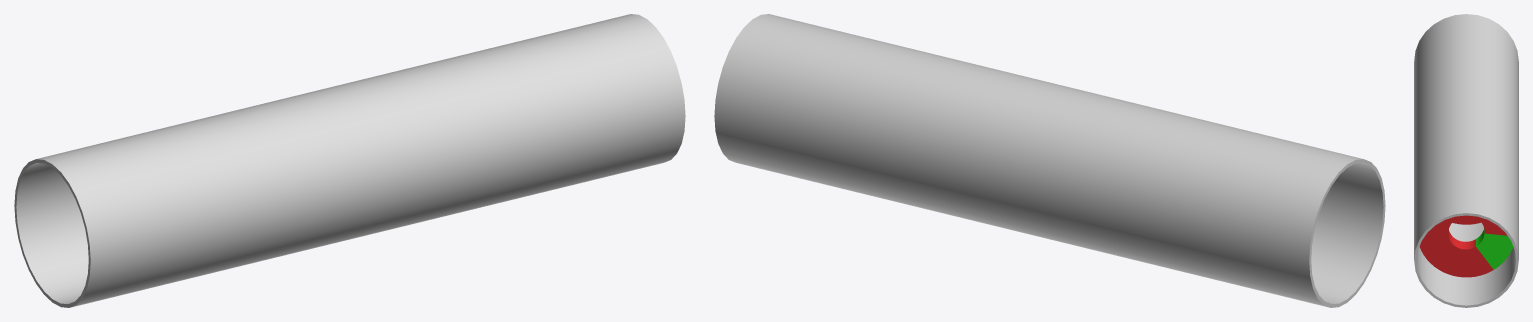
File: RFQ_Together.fbx
The picture shows the model from 3 angles, left to right: view 1: azimuth 30°, elevation 25°; view 2: azimuth 150°, elevation 25°; view 3: azimuth 270°, elevation 25°; orthographic projection. The views are drawn at different scales.
Visible parts, largest first — view 1: RFQ_Main_Pipe.003; view 2: RFQ_Main_Pipe.003; view 3: RFQ_Main_Pipe.003.
Boxes of the visible parts, box(x1,y1,x2,y2) form: RFQ_Main_Pipe.003: box(14, 14, 685, 307); RFQ_Main_Pipe.003: box(714, 14, 1385, 307); RFQ_Main_Pipe.003: box(1414, 14, 1518, 307).
Bounding box in the file's own units: 9000 × 2000 × 2000.
